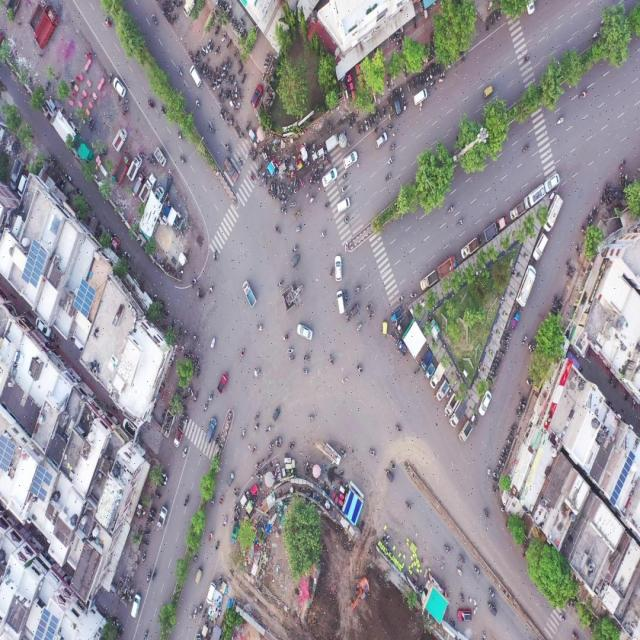3W: (288, 253, 305, 270), (481, 83, 494, 101), (380, 318, 389, 340), (487, 599, 497, 618), (194, 566, 203, 587), (273, 406, 283, 422), (351, 302, 361, 318), (384, 467, 393, 484)
Cars: (223, 155, 240, 184), (295, 321, 315, 343), (204, 414, 217, 444), (250, 84, 264, 110), (534, 233, 547, 259), (479, 390, 492, 416), (335, 195, 351, 215), (323, 168, 339, 188), (344, 150, 360, 169), (334, 252, 343, 284), (189, 66, 202, 88), (114, 77, 128, 97), (392, 90, 402, 117), (545, 174, 560, 192), (335, 290, 345, 316), (414, 88, 428, 106), (455, 609, 474, 622), (376, 132, 388, 150), (225, 470, 235, 489)
LCV: (517, 266, 537, 307), (543, 195, 563, 231), (241, 279, 263, 309), (418, 267, 440, 295), (524, 183, 546, 209), (437, 255, 457, 279), (508, 199, 527, 224), (459, 238, 478, 263), (127, 155, 143, 181), (445, 390, 458, 422), (430, 362, 445, 388), (112, 126, 127, 151), (157, 504, 170, 530), (325, 132, 341, 151), (420, 351, 433, 374), (397, 314, 410, 335), (154, 145, 166, 167), (172, 428, 185, 448), (459, 420, 472, 440), (437, 380, 449, 400), (218, 371, 228, 394), (390, 307, 403, 323), (510, 311, 520, 331), (396, 340, 408, 356), (425, 363, 435, 382)
M2W: (403, 498, 415, 512), (146, 99, 157, 113), (319, 228, 328, 244), (327, 352, 336, 368), (472, 563, 482, 577), (150, 12, 159, 27), (182, 493, 191, 508), (482, 506, 489, 525), (159, 104, 167, 120), (193, 97, 202, 111), (369, 445, 378, 459), (554, 115, 565, 126), (213, 21, 221, 36), (294, 224, 304, 236), (488, 586, 496, 601), (140, 549, 147, 566), (207, 121, 216, 134), (282, 332, 291, 345), (455, 564, 464, 577), (458, 591, 467, 604), (179, 153, 186, 169), (257, 320, 264, 336), (207, 529, 214, 545), (221, 29, 228, 45), (578, 90, 588, 101), (175, 66, 184, 78), (355, 364, 364, 376), (307, 415, 316, 427), (444, 542, 451, 557), (618, 157, 626, 170), (182, 443, 188, 460), (322, 201, 332, 211), (249, 171, 256, 185), (274, 224, 282, 236), (221, 515, 229, 527), (575, 241, 581, 257), (240, 72, 247, 85), (240, 347, 247, 360), (254, 366, 261, 379), (395, 420, 402, 433), (289, 198, 298, 208), (522, 144, 531, 154), (449, 618, 458, 628), (208, 389, 214, 404), (390, 460, 398, 471), (456, 217, 464, 228), (288, 354, 295, 366), (253, 410, 260, 422), (213, 541, 220, 553), (521, 335, 528, 347), (203, 398, 209, 412), (209, 336, 216, 348), (208, 283, 215, 295), (212, 249, 218, 263), (237, 155, 243, 169), (176, 132, 185, 141), (303, 354, 312, 363), (387, 156, 396, 165), (255, 422, 263, 432), (267, 439, 275, 449), (355, 322, 363, 332), (364, 303, 372, 313), (226, 37, 232, 50), (193, 607, 199, 620), (551, 294, 557, 307), (244, 120, 250, 133), (240, 429, 247, 440), (564, 256, 571, 267), (146, 569, 151, 584), (215, 45, 221, 57), (251, 444, 257, 456), (219, 495, 225, 507), (458, 552, 464, 564), (343, 216, 352, 224), (398, 294, 406, 303), (447, 204, 455, 213), (355, 125, 361, 137), (247, 146, 253, 158), (238, 64, 244, 76), (142, 530, 151, 538), (140, 539, 149, 547), (224, 143, 231, 153), (303, 365, 310, 375), (152, 568, 157, 582), (523, 53, 530, 63), (559, 613, 566, 623), (489, 16, 494, 30), (224, 55, 230, 66), (329, 265, 334, 278), (384, 173, 392, 181), (341, 172, 349, 180), (286, 347, 294, 355), (525, 378, 533, 386), (291, 244, 298, 253), (389, 143, 396, 152), (410, 290, 417, 299), (293, 208, 300, 217), (277, 279, 284, 288), (428, 80, 435, 89), (499, 454, 506, 463), (509, 424, 516, 433), (501, 342, 508, 351), (221, 107, 228, 116), (266, 424, 272, 434), (310, 193, 316, 203), (345, 312, 350, 324), (423, 72, 427, 87), (251, 151, 257, 161), (234, 48, 239, 60), (199, 600, 203, 614), (354, 286, 361, 294), (386, 124, 394, 131), (279, 206, 286, 214), (122, 107, 129, 115), (571, 632, 579, 639), (504, 444, 511, 452), (494, 356, 502, 363), (264, 175, 268, 189), (238, 88, 242, 102), (213, 68, 217, 82), (193, 392, 198, 403), (386, 80, 391, 91), (586, 216, 591, 227), (219, 112, 224, 123), (226, 75, 231, 86), (342, 184, 348, 193), (498, 349, 504, 358), (568, 265, 574, 274), (146, 157, 152, 166), (153, 493, 162, 499), (344, 289, 348, 302), (351, 114, 355, 127), (364, 118, 368, 131), (386, 95, 390, 108), (403, 99, 407, 112), (412, 77, 416, 90), (432, 65, 436, 78), (400, 86, 404, 99), (219, 86, 223, 99), (295, 180, 299, 193), (581, 225, 586, 235), (230, 75, 235, 85), (299, 177, 304, 187), (508, 433, 515, 440), (551, 308, 558, 315), (565, 272, 572, 279), (121, 99, 129, 105), (348, 118, 352, 130), (428, 67, 432, 79), (437, 64, 441, 76), (378, 110, 382, 122), (485, 18, 488, 34), (493, 13, 497, 25), (478, 232, 482, 244), (515, 407, 519, 419), (316, 172, 320, 184), (230, 114, 234, 126), (234, 81, 238, 93), (288, 181, 294, 189), (276, 184, 280, 196), (261, 172, 265, 184), (151, 154, 155, 166), (211, 497, 216, 506), (368, 313, 373, 322), (282, 194, 287, 203), (108, 72, 112, 83), (196, 48, 200, 59), (213, 81, 217, 92), (320, 164, 324, 175), (283, 183, 287, 194), (361, 122, 364, 136), (518, 405, 524, 412), (496, 466, 503, 472), (518, 401, 525, 407), (202, 46, 208, 53), (200, 51, 207, 57), (151, 507, 157, 514), (370, 116, 374, 126), (505, 439, 513, 444), (267, 186, 271, 196), (228, 62, 232, 72), (210, 42, 214, 52), (208, 71, 212, 81), (288, 189, 293, 197), (258, 165, 262, 175), (382, 106, 385, 119), (420, 75, 423, 88), (367, 118, 370, 130), (374, 123, 377, 135), (416, 75, 419, 87), (491, 366, 497, 372), (207, 37, 210, 49), (493, 472, 498, 479), (138, 152, 145, 157), (218, 78, 221, 89), (407, 82, 410, 92), (498, 461, 503, 467), (273, 183, 276, 193), (280, 183, 283, 193)
Truck: (35, 8, 59, 52), (113, 153, 129, 186), (141, 173, 157, 200)
